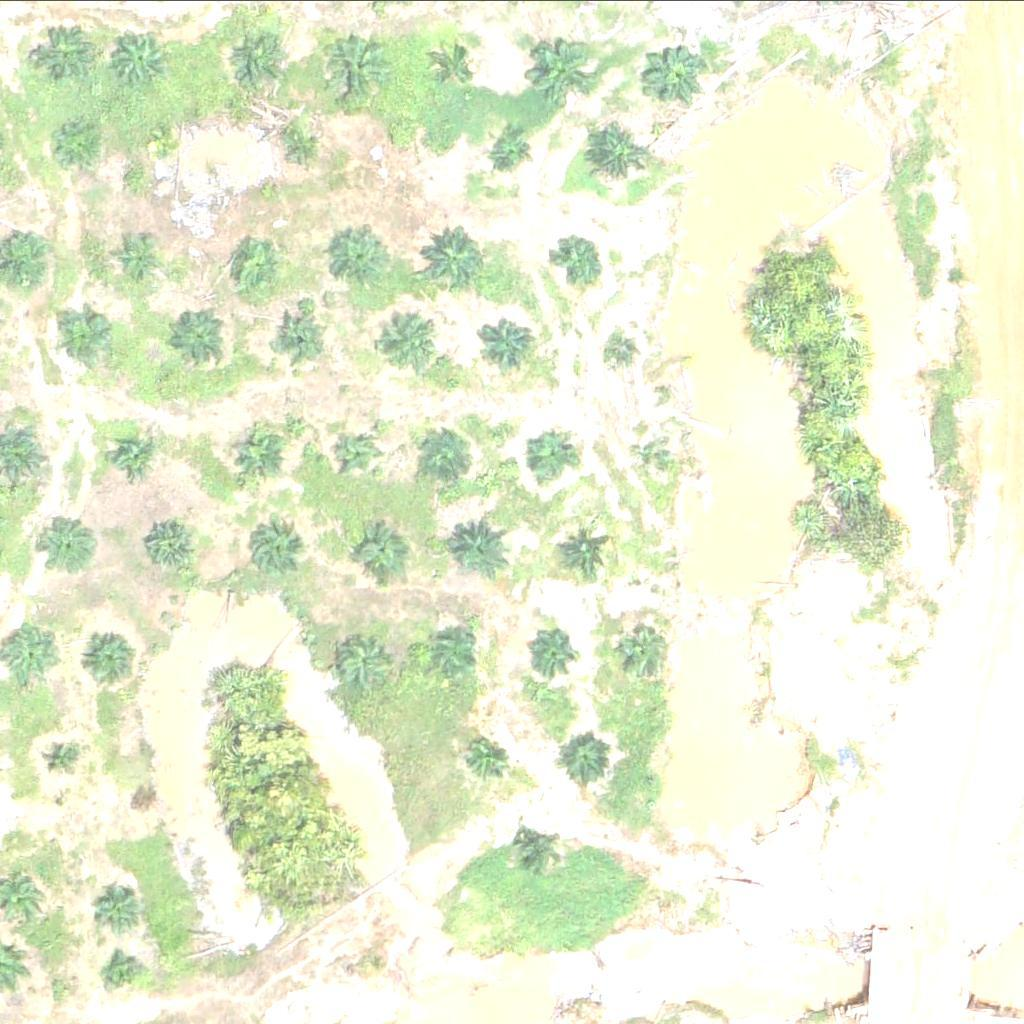Kelapa_Sawit: (310, 27, 386, 102), (530, 42, 593, 105), (35, 20, 98, 83), (453, 517, 516, 580), (639, 46, 702, 109), (419, 227, 482, 289), (382, 309, 445, 371), (227, 29, 290, 91), (329, 230, 392, 292), (82, 627, 145, 689), (224, 423, 287, 485), (584, 124, 647, 186), (114, 24, 176, 86), (520, 432, 571, 482), (421, 428, 472, 478), (358, 530, 409, 580), (44, 519, 95, 569), (343, 636, 394, 686), (426, 625, 477, 675), (524, 625, 575, 675), (563, 525, 614, 575), (145, 522, 196, 572), (109, 431, 160, 481), (486, 317, 536, 367), (553, 236, 603, 286), (270, 310, 320, 360), (64, 307, 114, 357), (174, 311, 224, 361), (47, 121, 97, 171), (230, 244, 280, 294), (248, 525, 298, 575), (564, 734, 614, 784), (433, 40, 483, 90), (490, 125, 540, 175), (273, 117, 323, 167), (625, 623, 675, 673), (460, 731, 510, 781), (516, 822, 566, 872), (94, 881, 144, 931), (120, 241, 158, 279), (104, 955, 142, 993), (337, 435, 375, 472), (41, 737, 79, 774), (606, 336, 631, 361), (148, 133, 173, 158), (383, 126, 408, 151), (640, 431, 665, 456)
